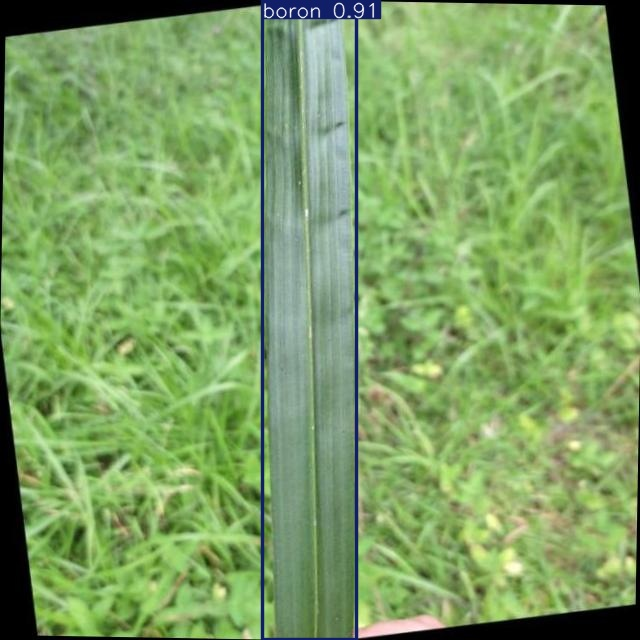nitrogen: (263, 1, 357, 640)
